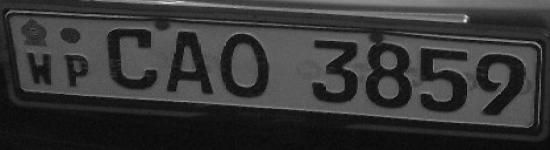3: (308, 34, 363, 106)
5: (414, 41, 473, 117)
8: (364, 38, 418, 112)
9: (475, 50, 530, 120)
A: (166, 27, 214, 98)
C: (102, 24, 160, 92)
O: (215, 30, 274, 102)
P: (62, 51, 93, 91)
W: (24, 49, 56, 90)
